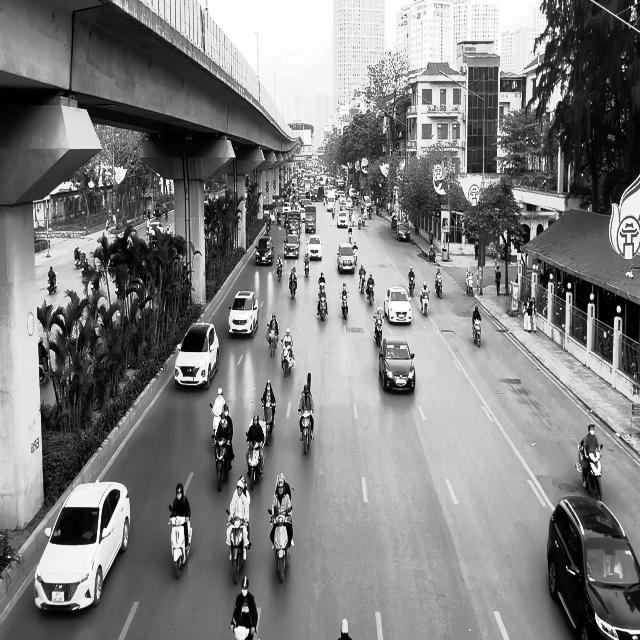car: (547, 495, 640, 639), (34, 480, 131, 613), (174, 321, 220, 390), (379, 337, 416, 394), (228, 290, 259, 338), (384, 286, 412, 324), (255, 236, 275, 265), (337, 243, 355, 274), (306, 235, 322, 260), (284, 234, 300, 258), (396, 222, 411, 241)
motorbike: (268, 506, 294, 582), (226, 508, 251, 585), (168, 505, 193, 579), (576, 439, 604, 501), (212, 434, 233, 492), (246, 434, 264, 490), (299, 409, 314, 455), (262, 399, 276, 446), (281, 340, 295, 378), (266, 324, 278, 356), (374, 318, 384, 346), (318, 294, 328, 322), (472, 319, 482, 347), (48, 273, 58, 295), (341, 293, 349, 319), (421, 293, 429, 316), (290, 278, 298, 300), (435, 276, 443, 298), (366, 284, 374, 305), (359, 270, 366, 294), (304, 255, 310, 277), (409, 275, 415, 297), (277, 263, 283, 282)
